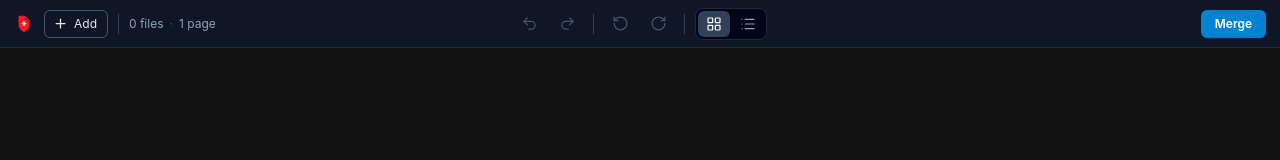
Test case: Toolbar › titles the completion chip's file name with the full destination path
Click the button "Merge" at (1233, 24), box [1201,10,1266,38]
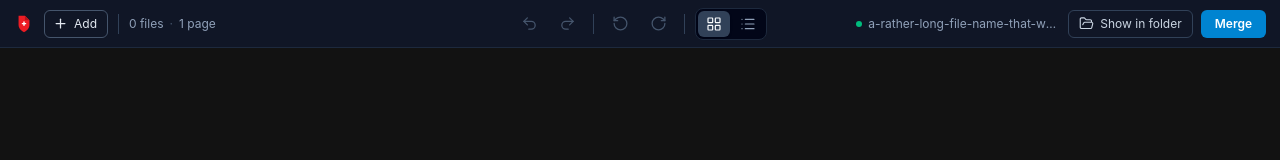
Expected: the text "a-rather-long-file-name-that-would-need-truncating.pdf" is shown, [868,16,1060,32]
